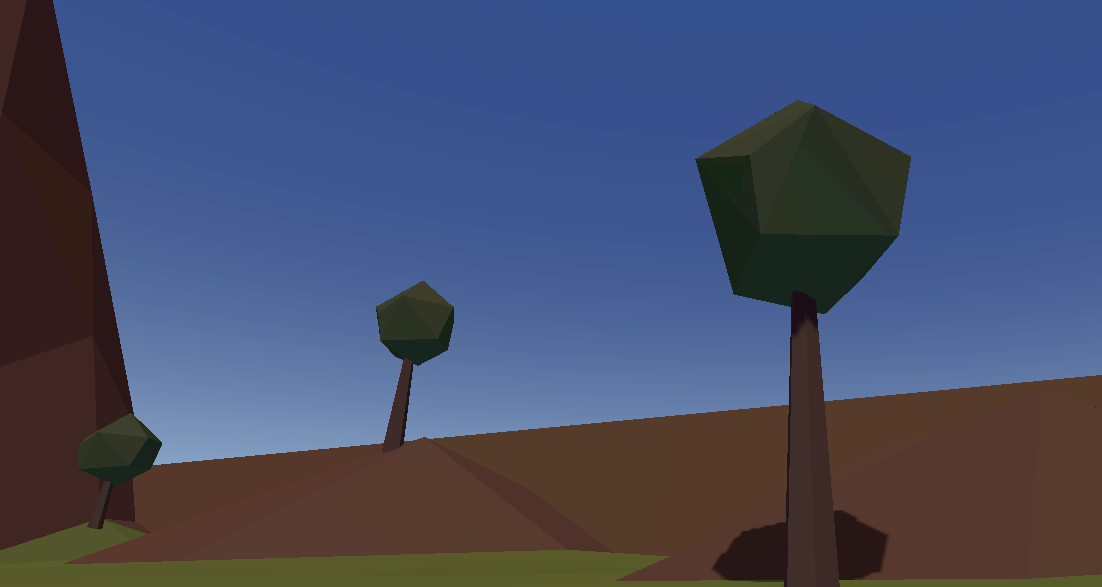tree: (696, 100, 929, 587), (372, 277, 458, 449), (79, 409, 167, 531)
